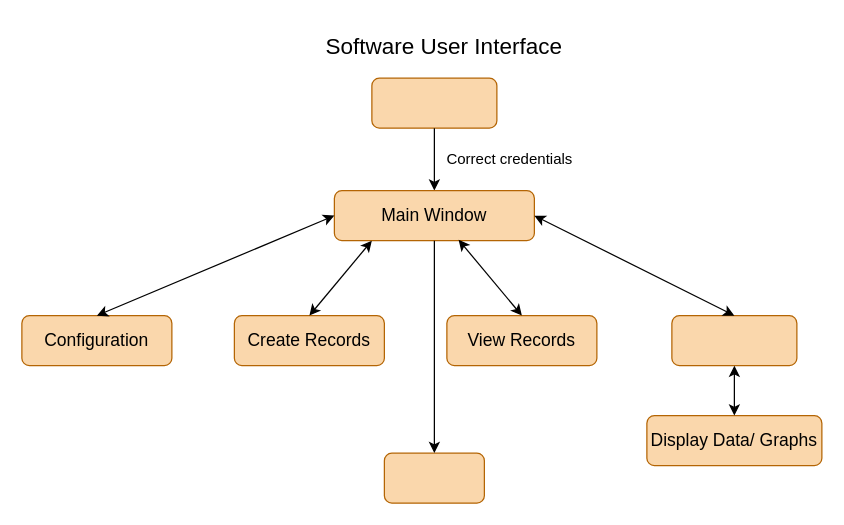
This 844x525 diagram has some shape labels left out. The shapes that lost their labels are listed below. From the top down, each one's centre as x and y in pixels, then its label:
(x=434, y=102): Login Page
(x=734, y=340): Data View
(x=433, y=477): Exit
